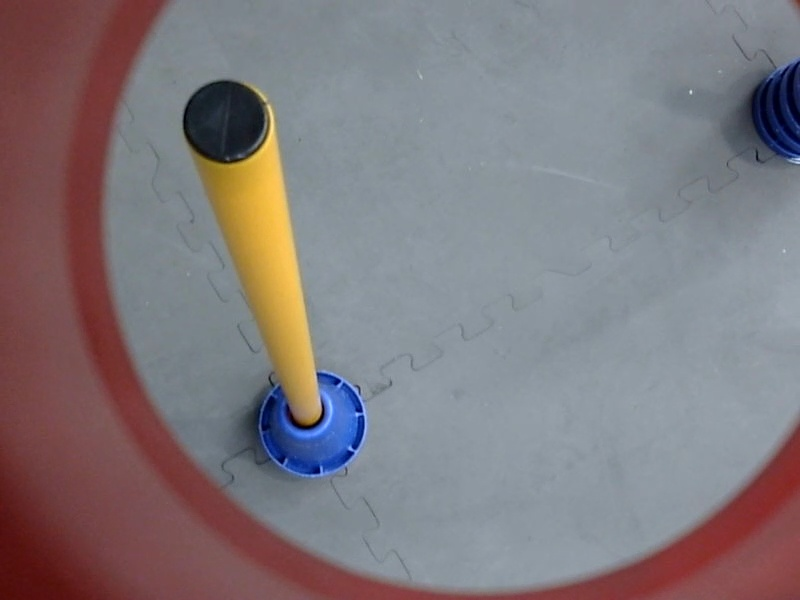tip: (176, 70, 274, 168)
